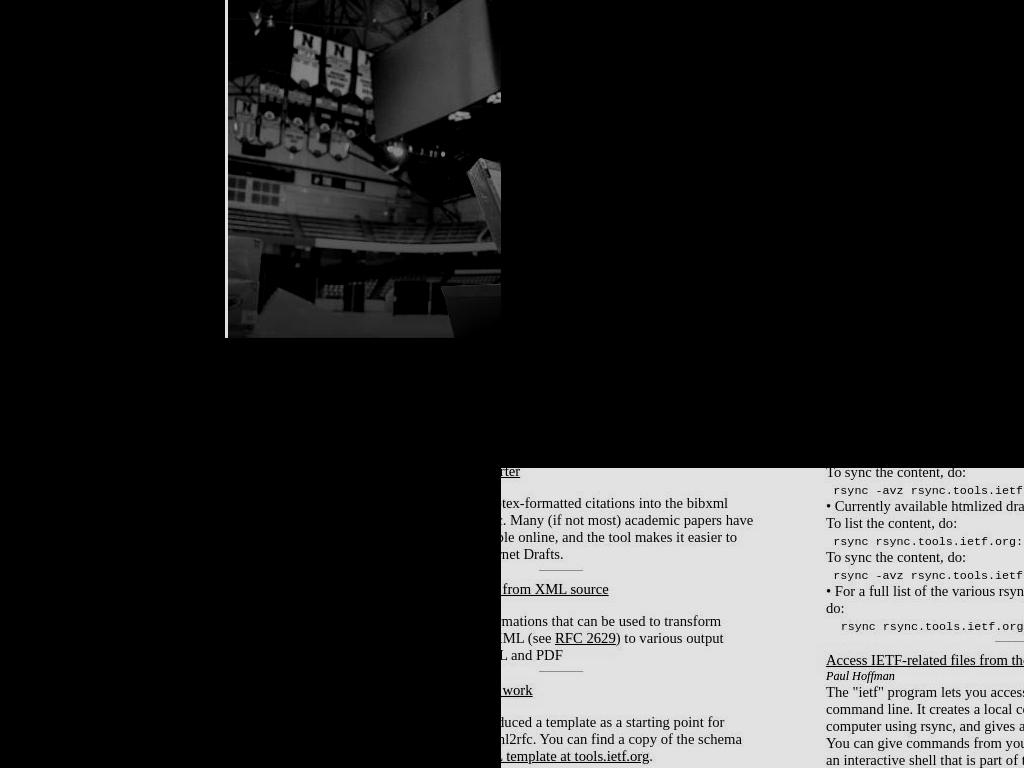button: (501, 0, 1024, 388), (0, 468, 501, 768), (0, 109, 225, 205), (0, 275, 225, 371), (0, 38, 225, 110), (0, 204, 225, 276), (283, 473, 414, 529), (0, 0, 225, 29), (414, 473, 501, 529), (62, 473, 145, 529), (145, 473, 214, 529), (214, 473, 283, 529), (0, 473, 62, 529), (501, 318, 524, 358)
heading: (501, 0, 1024, 461), (0, 358, 501, 390)
image: (501, 0, 1024, 388), (0, 0, 75, 19)
link: (0, 754, 501, 768), (825, 651, 1024, 668), (501, 747, 649, 764), (501, 580, 609, 597), (555, 629, 617, 646)
text: (0, 634, 501, 755), (0, 404, 501, 468), (501, 494, 753, 562), (825, 683, 1024, 768), (0, 287, 191, 355), (0, 121, 190, 189), (501, 713, 742, 764), (501, 629, 724, 663), (501, 612, 721, 646), (825, 582, 1024, 616), (0, 216, 152, 260), (0, 50, 118, 96), (825, 497, 1024, 514), (825, 582, 1024, 599), (833, 483, 1024, 498), (833, 534, 1024, 549), (833, 568, 1024, 583), (840, 619, 1024, 634), (825, 548, 966, 565), (825, 514, 957, 531), (825, 468, 966, 480), (825, 668, 895, 683), (78, 490, 129, 508), (0, 490, 46, 508), (161, 490, 198, 508), (649, 747, 654, 764)
